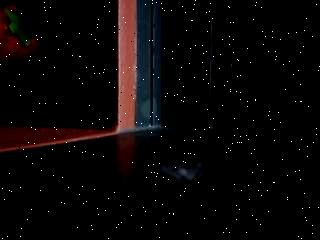Tomato: (0, 2, 46, 71)
